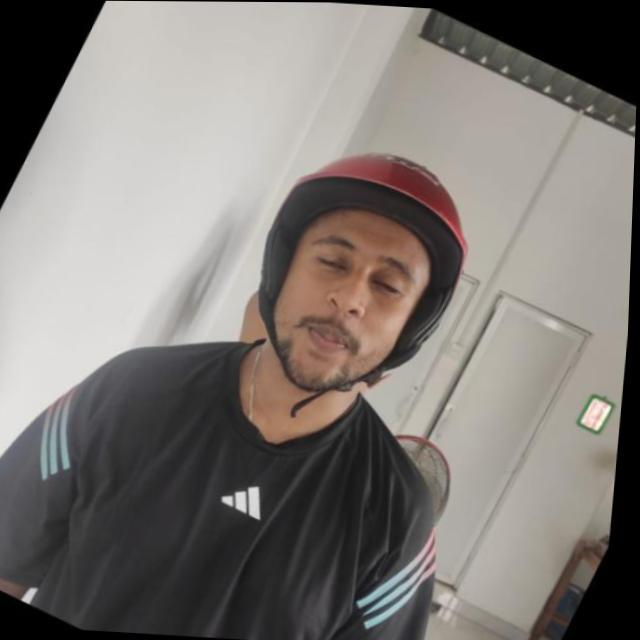with_helmet: (261, 155, 464, 390)
